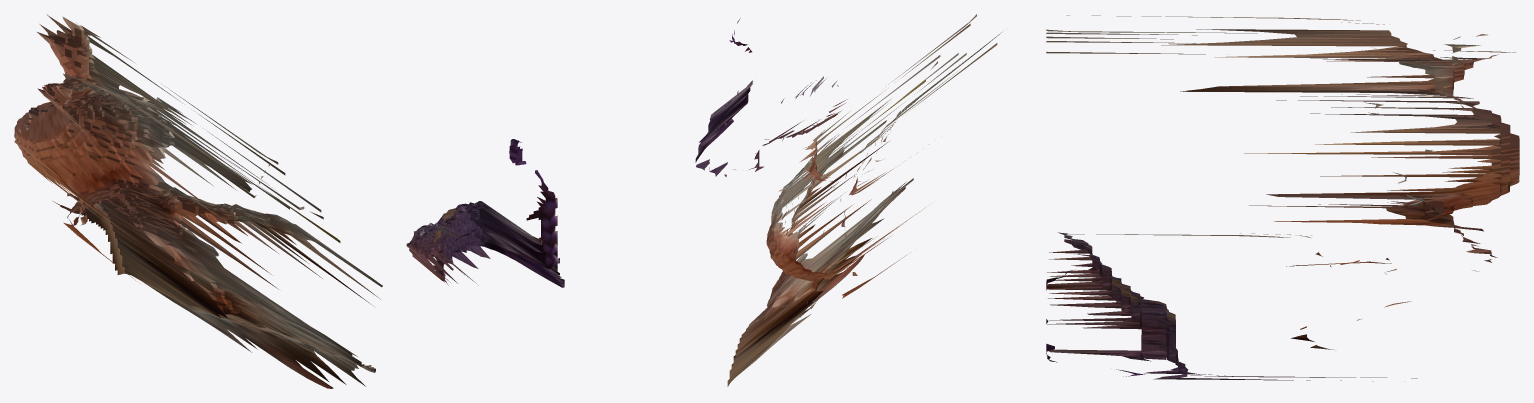
Rendered from frame_00305.glb.
3 renders of one model, left to right at view 1: azimuth 30°, elevation 25°; view 2: azimuth 150°, elevation 25°; view 3: azimuth 270°, elevation 25°, orthographic. The views are drawn at different scales.
Parts seen in each view (by area): view 1: geometry_0; view 2: geometry_0; view 3: geometry_0.
Boxes of the visible parts, left/top/right/bottom form: geometry_0: left=14, top=14, right=564, bottom=388; geometry_0: left=695, top=14, right=1001, bottom=386; geometry_0: left=1046, top=15, right=1519, bottom=381.
Bounding box in the file's own units: 0.1417 × 0.1154 × 0.16.
1 material, 1 textured.
